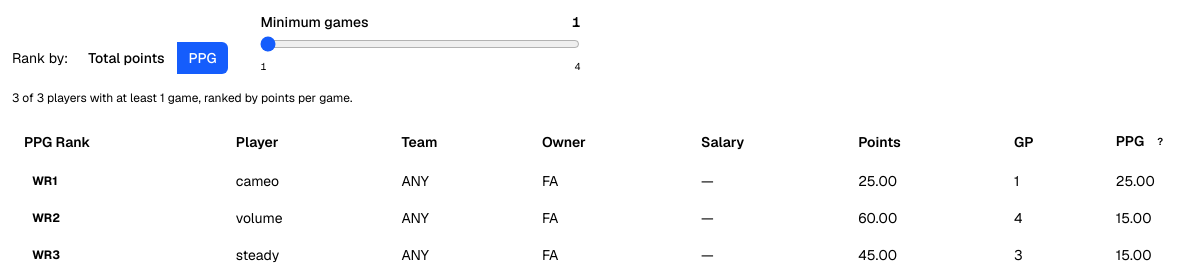
Test: the slider drops players under the floor and re-numbers the rest
Set the slider labelled "Minimum games" to "3" at [471, 44], box [260, 36, 580, 52]
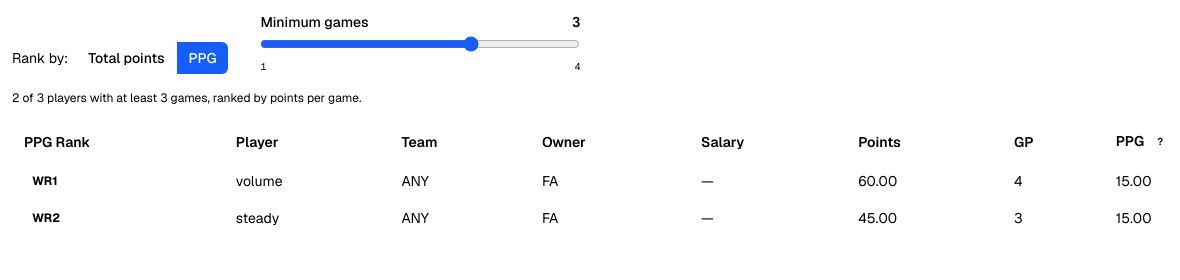
Expected: the text "2 of 3 players with at least 3 games" is shown, [12, 90, 361, 106]
